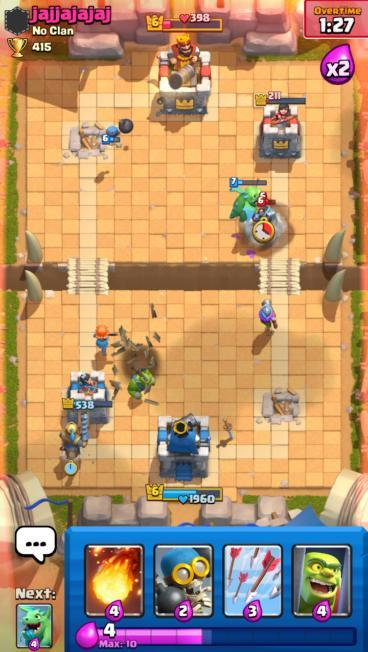ally_baby_dragon: (227, 174, 274, 221)
ally_bomber: (100, 115, 135, 154)
ally_brawler: (123, 367, 158, 402)
ally_musketeer: (257, 296, 279, 335)
ally_prince: (59, 405, 92, 467)
ally_valkyrie: (91, 323, 114, 355)
enemy_minion: (250, 194, 278, 233), (253, 187, 277, 229)
